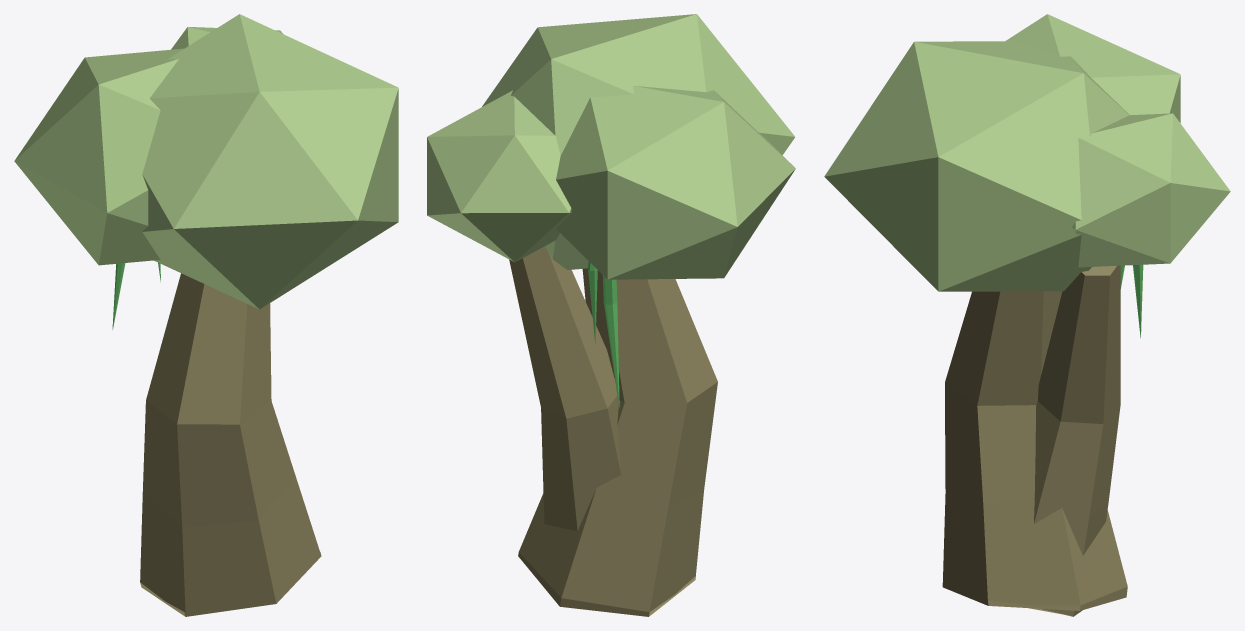
Rendered from Arbre_moyen_1_V002.fbx.
The picture shows the model from 3 angles, left to right: view 1: azimuth 30°, elevation 25°; view 2: azimuth 150°, elevation 25°; view 3: azimuth 270°, elevation 25°; orthographic projection. The views are drawn at different scales.
Visible parts, largest first — view 1: Platonic, Sweep, Platonic_2; view 2: Sweep, Platonic_2, Platonic, Sweep_1, Platonic_1, Liane_3; view 3: Platonic, Sweep, Sweep_1, Platonic_1, Platonic_2.
Part boxes in pixels (x1,y1,x2,y2): Platonic: (142,14,398,309); Sweep: (140,273,321,616); Platonic_2: (14,48,183,265); Sweep: (518,268,717,616); Platonic_2: (556,85,795,279); Platonic: (482,14,794,269); Sweep_1: (509,246,621,531); Platonic_1: (427,90,571,262); Liane_3: (602,275,619,407); Platonic: (824,41,1129,291); Sweep: (942,291,1127,610); Sweep_1: (1028,265,1120,616); Platonic_1: (1072,113,1230,267); Platonic_2: (1005,14,1180,122).
Bounding box in the file's own units: 272 × 466 × 313.
